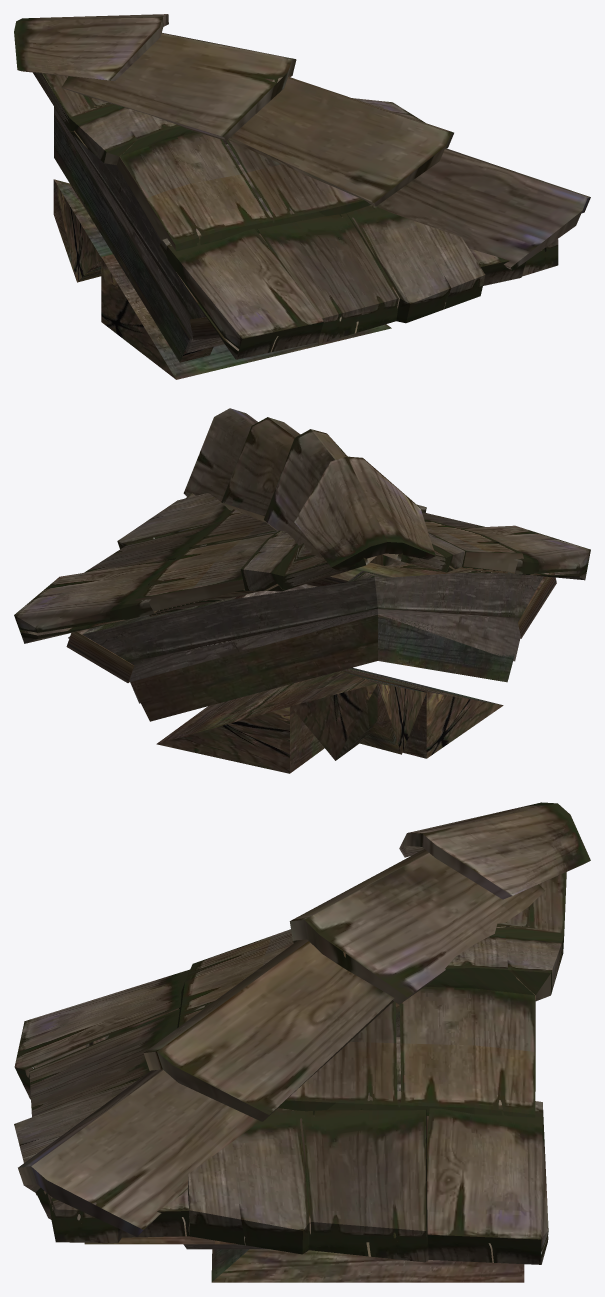
The picture shows the model from 3 angles, top to bottom: view 1: azimuth 30°, elevation 25°; view 2: azimuth 150°, elevation 25°; view 3: azimuth 270°, elevation 25°; orthographic projection. The views are drawn at different scales.
Visible parts, largest first — view 1: SM_T1_Roof_Small_Hip_Shallow_LOD0; view 2: SM_T1_Roof_Small_Hip_Shallow_LOD0; view 3: SM_T1_Roof_Small_Hip_Shallow_LOD0.
Part boxes in pixels (<box>): SM_T1_Roof_Small_Hip_Shallow_LOD0: <box>14,14,590,379</box>; SM_T1_Roof_Small_Hip_Shallow_LOD0: <box>14,408,590,773</box>; SM_T1_Roof_Small_Hip_Shallow_LOD0: <box>14,802,590,1282</box>.
Size of the model in its own units: 1.4 by 0.9696 by 1.41.
Materials: 3 (3 with a texture image).
